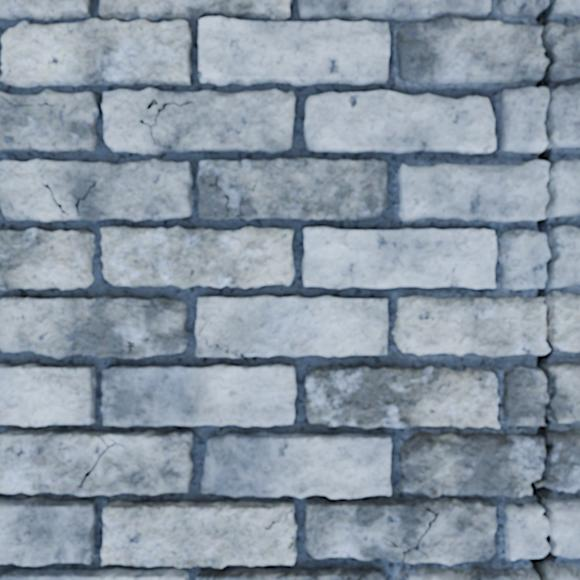brick: (0, 0, 490, 86), (101, 501, 296, 567), (304, 498, 495, 564), (0, 430, 192, 494), (102, 89, 294, 153), (201, 432, 390, 497), (305, 366, 498, 427), (0, 296, 188, 358), (305, 91, 495, 152), (102, 365, 295, 425), (0, 160, 193, 220), (303, 227, 496, 287), (101, 227, 294, 287), (197, 159, 386, 220), (196, 296, 387, 355), (0, 497, 96, 565), (0, 90, 98, 151), (0, 364, 95, 425), (0, 229, 94, 289), (196, 568, 385, 579), (0, 568, 188, 579), (0, 0, 92, 19), (196, 336, 226, 356)
broken_brick: (395, 18, 547, 85), (398, 430, 544, 498), (391, 294, 547, 357), (397, 159, 547, 222), (499, 86, 547, 153), (497, 229, 548, 290), (501, 365, 546, 425), (503, 501, 548, 560), (542, 428, 579, 493), (547, 225, 579, 288), (547, 22, 579, 83), (548, 290, 579, 352), (550, 83, 579, 148), (548, 498, 579, 558), (396, 566, 537, 579), (550, 158, 579, 217), (555, 368, 579, 423), (496, 0, 547, 19), (545, 562, 579, 579), (552, 0, 579, 16), (548, 362, 579, 365)
crack: (527, 0, 579, 579), (381, 506, 440, 562), (194, 313, 247, 357), (208, 174, 229, 219), (234, 180, 257, 218), (0, 94, 55, 107), (264, 508, 293, 530), (273, 535, 294, 549), (435, 14, 462, 20), (165, 24, 187, 30), (341, 575, 363, 579), (101, 403, 110, 412)
